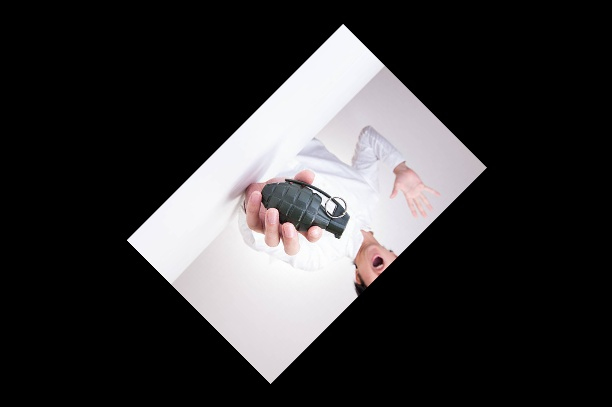e1: (258, 176, 353, 240)
